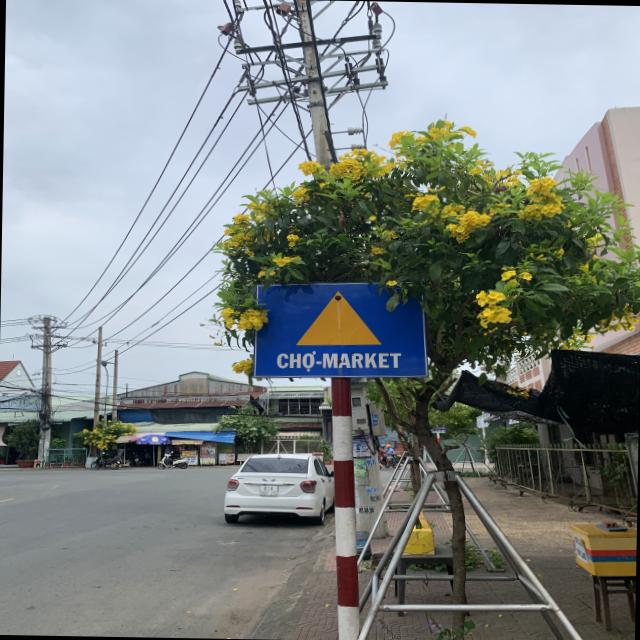Cho_Quay_Xe: (252, 280, 430, 380)
